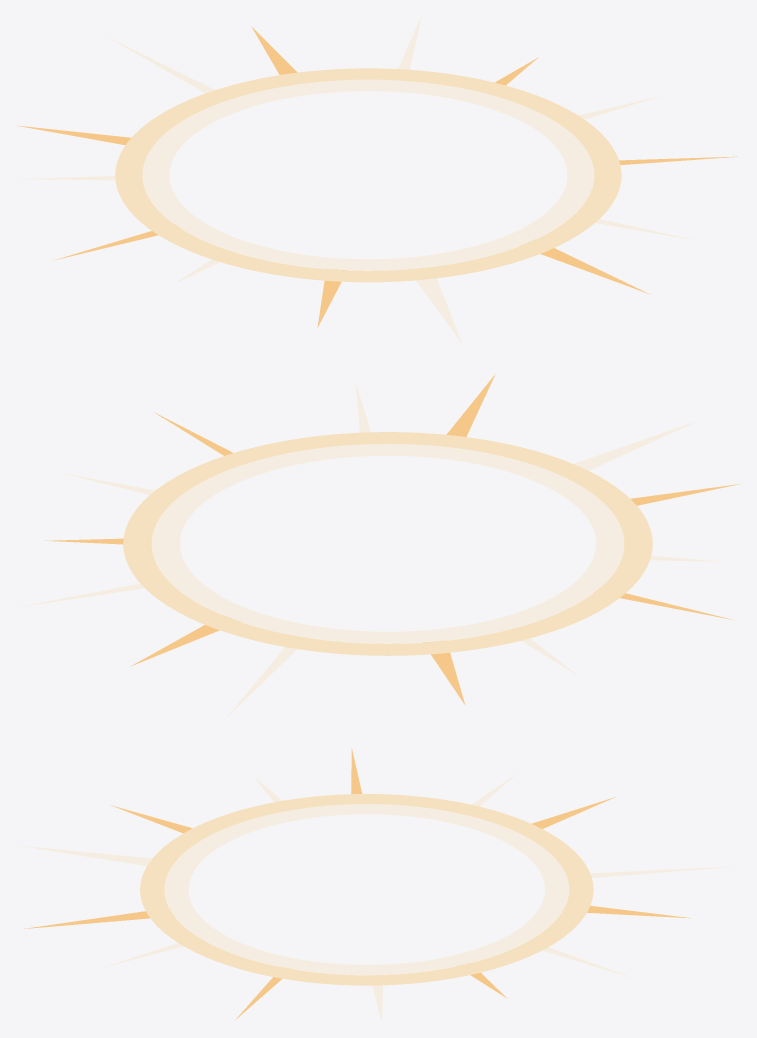
File: gargantua_flare.glb
The picture shows the model from 3 angles, top to bottom: view 1: azimuth 30°, elevation 25°; view 2: azimuth 150°, elevation 25°; view 3: azimuth 270°, elevation 25°; orthographic projection. The views are drawn at different scales.
Parts seen in each view (by area): view 1: gargantua_flare; view 2: gargantua_flare; view 3: gargantua_flare.
Boxes of the visible parts, x1=… form: gargantua_flare: x1=15, y1=15, x2=737, y2=343; gargantua_flare: x1=16, y1=374, x2=741, y2=717; gargantua_flare: x1=16, y1=748, x2=737, y2=1022.
Bounding box in the file's own units: 3.23 × 0.002 × 3.6.
